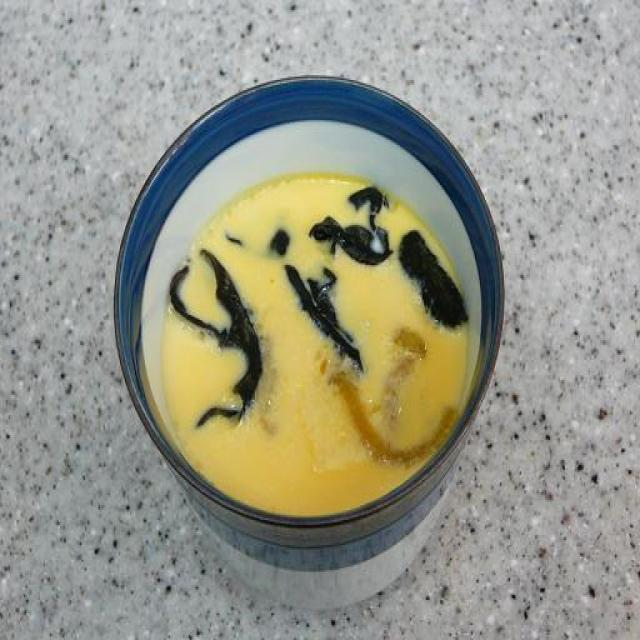鸡蛋料理: (144, 56, 495, 596)
